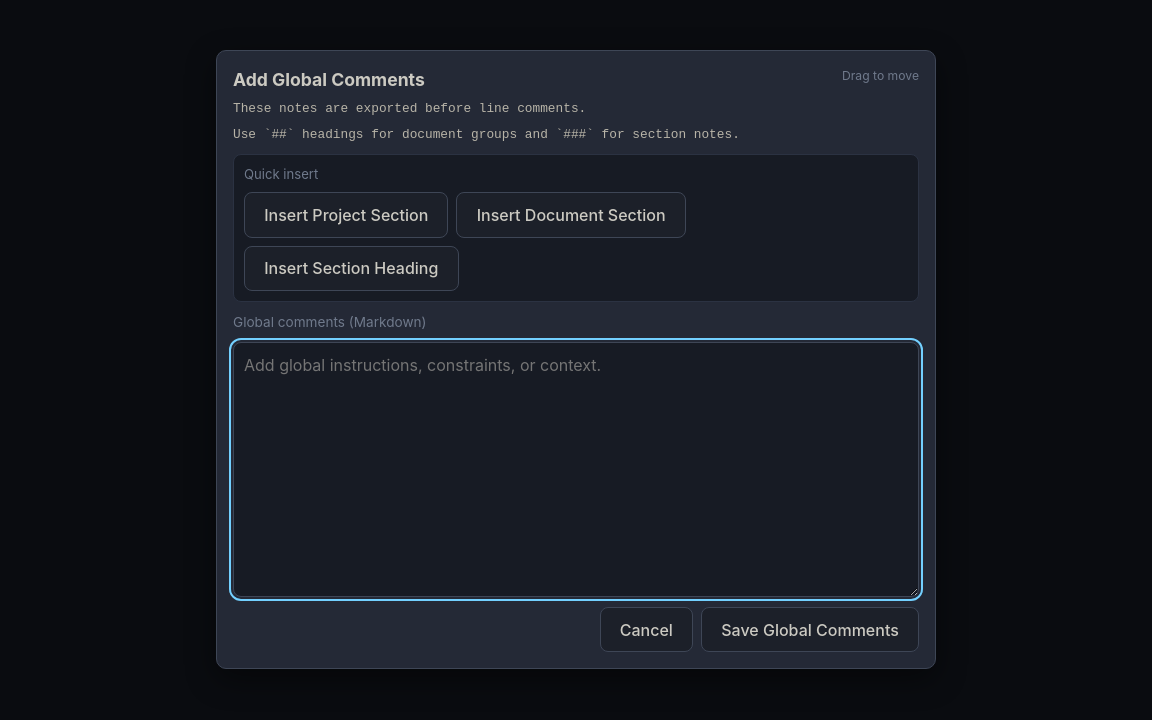
Test: GlobalCommentsModal › inserts document and section templates for organized notes
Click the button "Insert Document Section" at (571, 216), box 456,193 -> 686,238
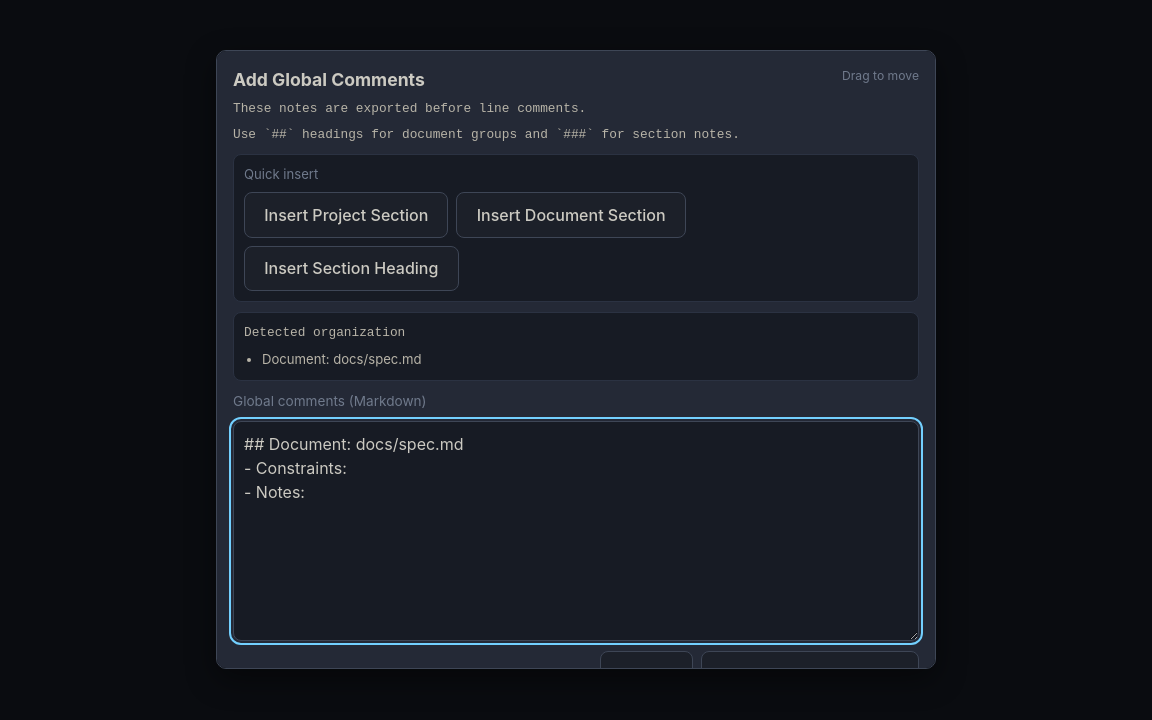
Click the button "Insert Section Heading" at (351, 269), box 244,246 -> 459,291
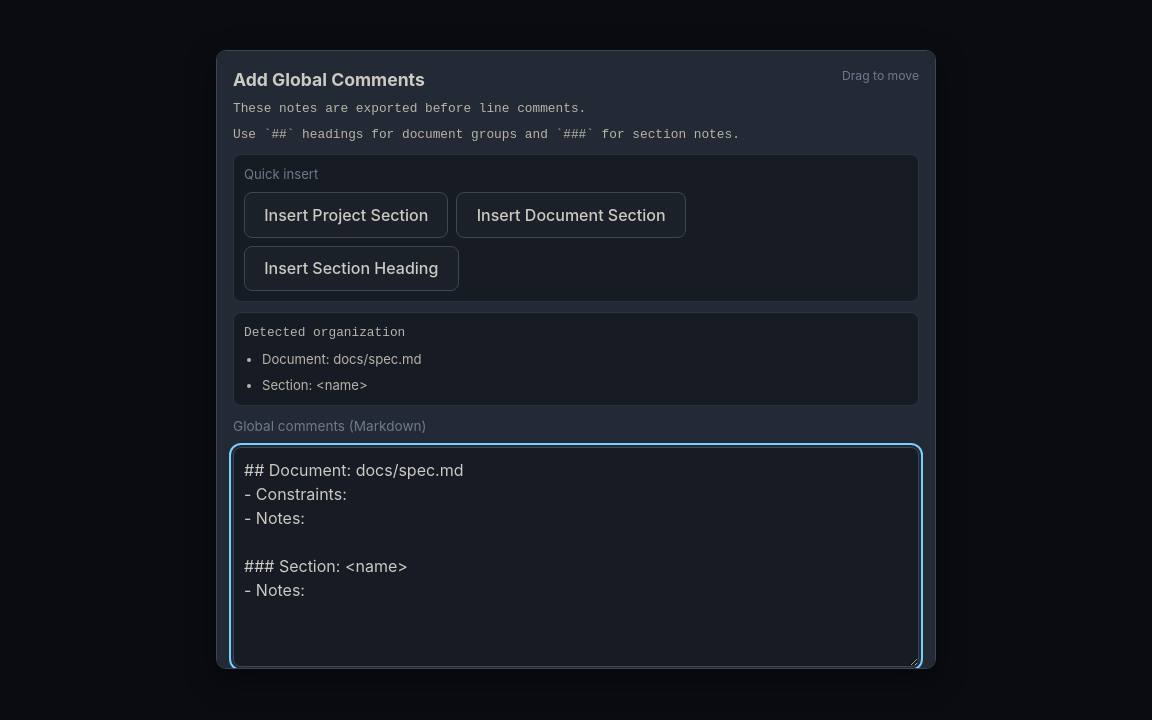
Expected: the element with test id "global-comments-sections" shows "Document: docs/spec.md", 262,351 -> 422,367
Expected: the element with test id "global-comments-sections" shows "Section: <name>", 262,377 -> 368,393
